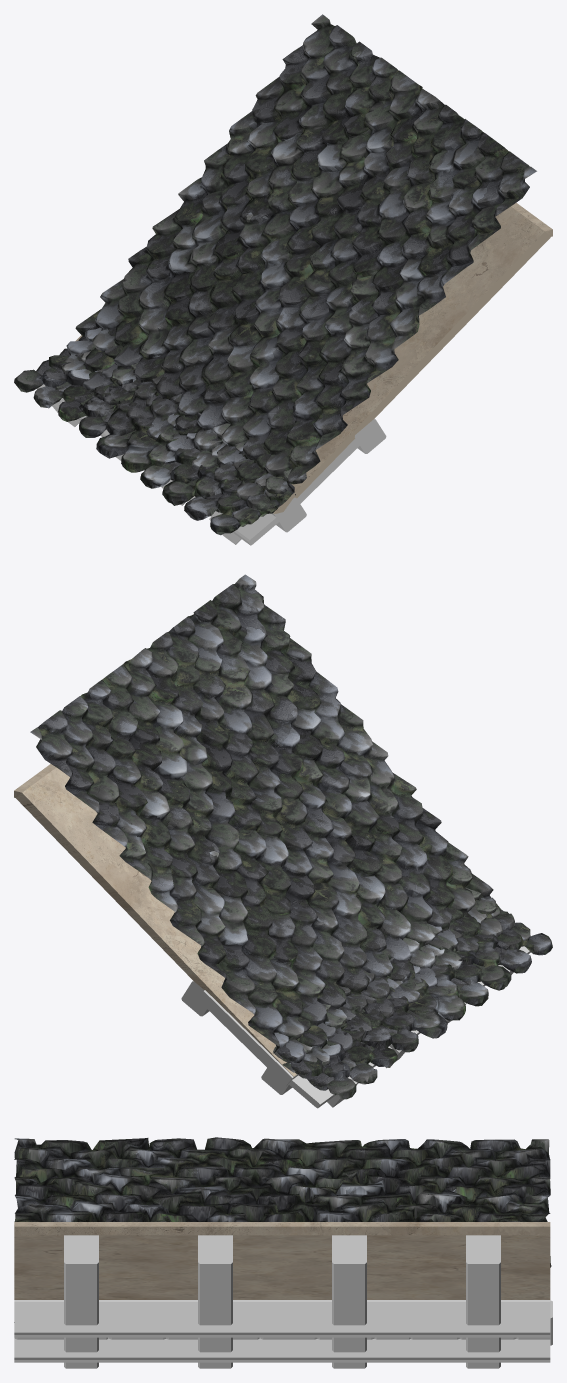
File: SM_Roof_A_01.fbx
The picture shows the model from 3 angles, top to bottom: view 1: azimuth 30°, elevation 25°; view 2: azimuth 150°, elevation 25°; view 3: azimuth 270°, elevation 25°; orthographic projection. The views are drawn at different scales.
Visible parts, largest first — view 1: SM_Roof_A_01_LOD0; view 2: SM_Roof_A_01_LOD0; view 3: SM_Roof_A_01_LOD0.
Part boxes in pixels (<box>): SM_Roof_A_01_LOD0: <box>14,14,552,545</box>; SM_Roof_A_01_LOD0: <box>14,574,552,1108</box>; SM_Roof_A_01_LOD0: <box>14,1137,552,1368</box>.
Size of the model in its own units: 371 by 402 by 331.
